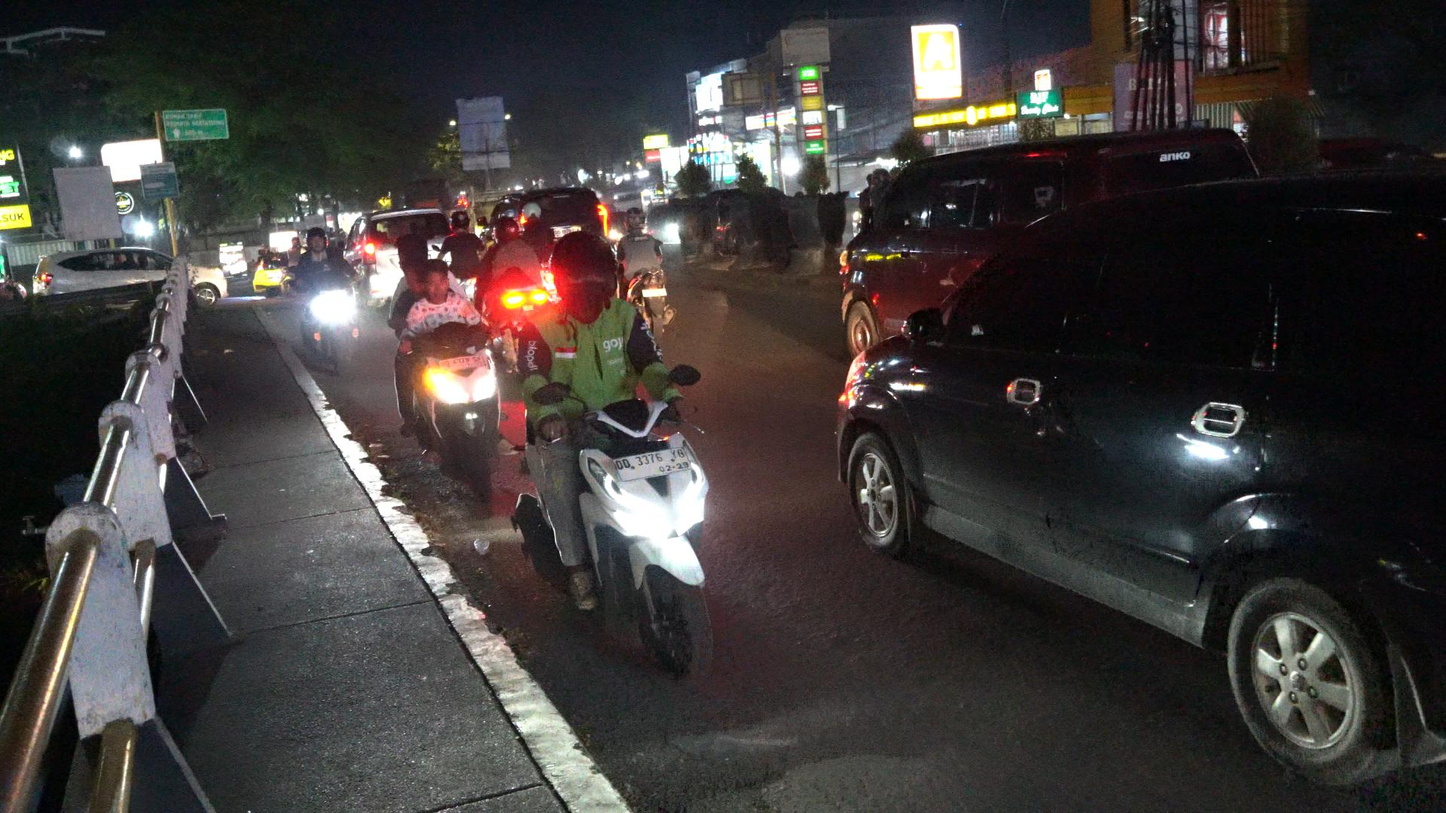number-plate: (604, 450, 698, 484), (429, 350, 495, 379)
